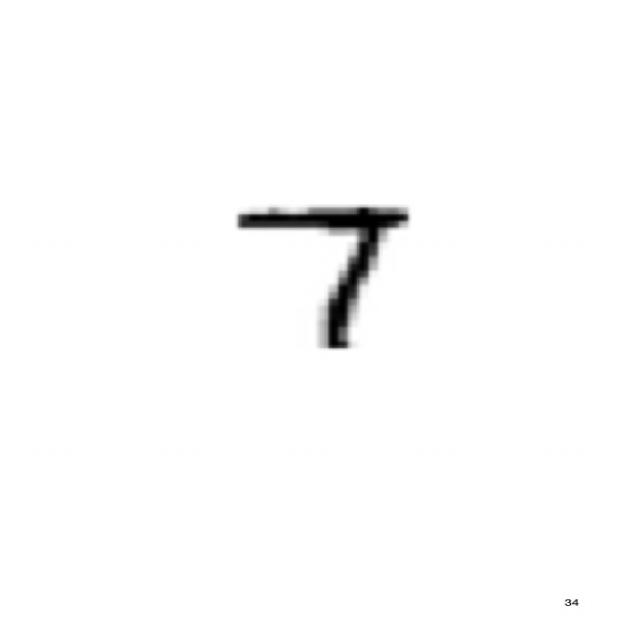6 -six-: (220, 194, 418, 361)
